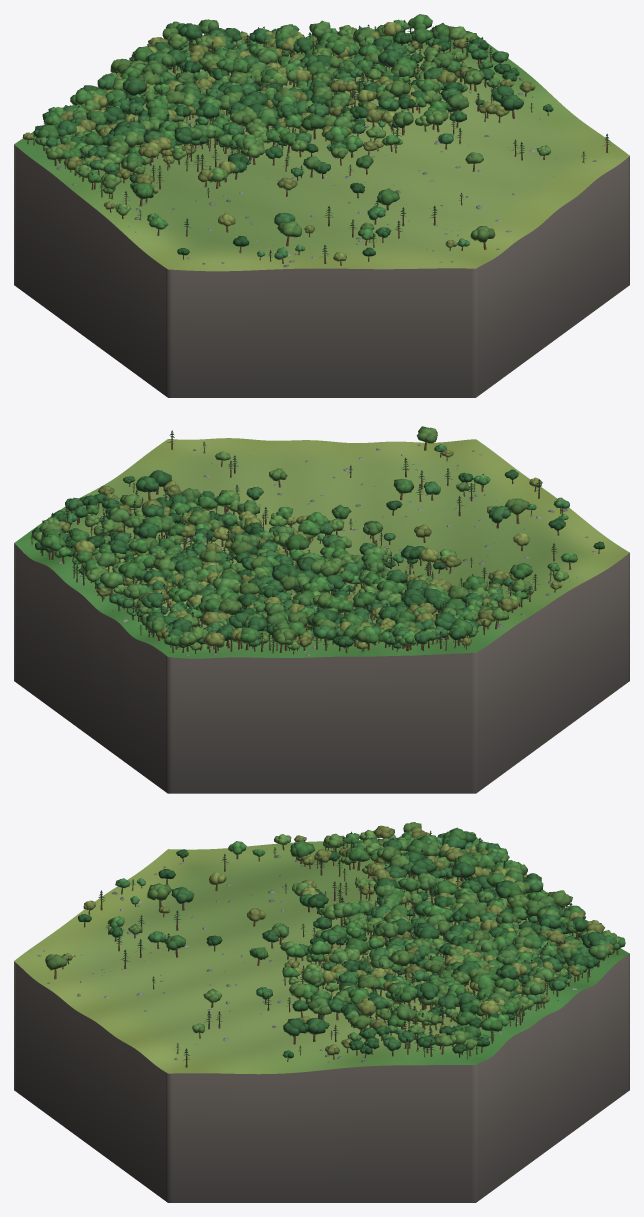
3 renders of one model, top to bottom at view 1: azimuth 30°, elevation 25°; view 2: azimuth 150°, elevation 25°; view 3: azimuth 270°, elevation 25°, orthographic.
Parts seen in each view (by area): view 1: hex_side_cut, terrain, broadleaf_canopy, trunks, conifer_canopy, boulders; view 2: hex_side_cut, broadleaf_canopy, terrain, trunks, conifer_canopy, boulders; view 3: hex_side_cut, terrain, broadleaf_canopy, trunks, conifer_canopy, boulders.
Part boxes in pixels (left/top/right/bottom): hex_side_cut: left=14, top=144, right=629, bottom=397; terrain: left=14, top=33, right=629, bottom=271; broadleaf_canopy: left=22, top=14, right=553, bottom=261; trunks: left=27, top=21, right=607, bottom=265; conifer_canopy: left=33, top=20, right=611, bottom=257; boulders: left=56, top=52, right=618, bottom=267; hex_side_cut: left=14, top=543, right=629, bottom=793; broadleaf_canopy: left=32, top=426, right=604, bottom=650; terrain: left=14, top=438, right=629, bottom=658; trunks: left=31, top=431, right=599, bottom=654; conifer_canopy: left=30, top=430, right=564, bottom=647; boulders: left=57, top=443, right=596, bottom=655; hex_side_cut: left=14, top=954, right=629, bottom=1202; terrain: left=14, top=837, right=629, bottom=1074; broadleaf_canopy: left=45, top=822, right=625, bottom=1058; trunks: left=54, top=831, right=618, bottom=1067; conifer_canopy: left=98, top=830, right=592, bottom=1060; boulders: left=37, top=849, right=609, bottom=1069.
Bounding box in the file's own units: 4330 × 1491 × 5000.
